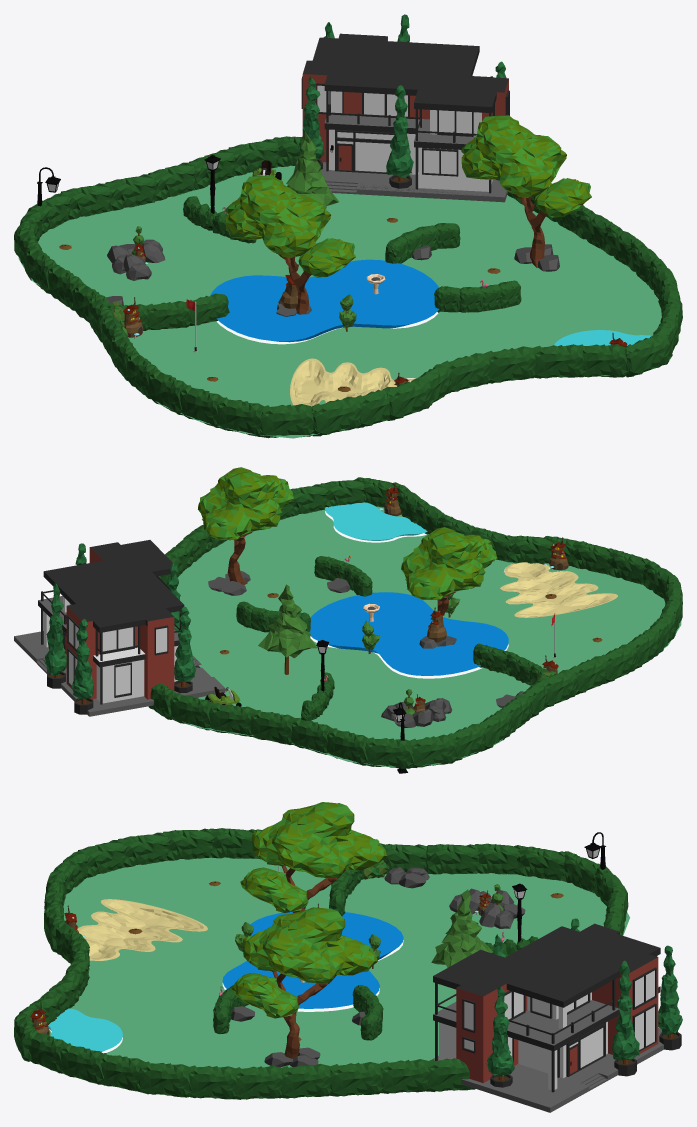
The model's file is Level_Advanced_Large_grass_mesh.fbx.
3 renders of one model, top to bottom at view 1: azimuth 30°, elevation 25°; view 2: azimuth 150°, elevation 25°; view 3: azimuth 270°, elevation 25°, orthographic. The views are drawn at different scales.
Parts seen in each view (by area): view 1: Grass_mesh, Plane.001, TallTree.002, Cylinder.006, TreeBase.008, TreeBase.003, Cylinder.007, SpruceTreeSmall.001, Bush.053, Bush.060, Bush.054, Bush.059 (+28 smaller); view 2: Grass_mesh, Plane.001, TallTree.002, Cylinder.006, TreeBase.008, TreeBase.003, Cylinder.007, Cylinder.008, SpruceTreeSmall.001, Bush.040, Bush.041, Bush.036 (+28 smaller); view 3: Grass_mesh, TallTree.002, Plane.001, TreeBase.008, TreeBase.003, Cylinder.007, Cylinder.006, Cylinder.008, SpruceTreeSmall.001, Bush.070, Bush.066, Bush.069 (+26 smaller).
Boxes of the visible parts, x1,y1,x2,y2 form: Grass_mesh: (41, 170, 657, 406); Plane.001: (18, 165, 661, 438); TallTree.002: (293, 14, 509, 202); Cylinder.006: (210, 259, 439, 342); TreeBase.008: (461, 115, 591, 267); TreeBase.003: (225, 175, 355, 314); Cylinder.007: (290, 358, 414, 406); SpruceTreeSmall.001: (286, 131, 339, 209); Bush.053: (260, 404, 315, 438); Bush.060: (533, 344, 585, 378); Bush.054: (312, 396, 361, 436); Bush.059: (484, 346, 536, 383); Grass_mesh: (177, 516, 658, 740); Plane.001: (176, 506, 681, 766); TallTree.002: (14, 540, 225, 716); Cylinder.006: (309, 592, 508, 675); TreeBase.008: (198, 467, 293, 585); TreeBase.003: (401, 527, 497, 620); Cylinder.007: (500, 562, 617, 617); Cylinder.008: (325, 502, 427, 540); SpruceTreeSmall.001: (258, 584, 317, 674); Bush.040: (365, 737, 413, 768); Bush.041: (410, 734, 457, 767); Bush.036: (209, 703, 255, 736); Grass_mesh: (66, 861, 600, 1068); TallTree.002: (432, 918, 682, 1112); Plane.001: (49, 857, 629, 1068); TreeBase.008: (231, 907, 377, 1058); TreeBase.003: (240, 802, 386, 913); Cylinder.007: (77, 899, 207, 960); Cylinder.006: (222, 911, 403, 1008); Cylinder.008: (48, 1008, 122, 1051); SpruceTreeSmall.001: (431, 889, 492, 967); Bush.070: (329, 1062, 384, 1096); Bush.066: (138, 1061, 192, 1097); Bush.069: (281, 1063, 331, 1098).
Size of the model in its own units: 22009 by 5729 by 23290.
